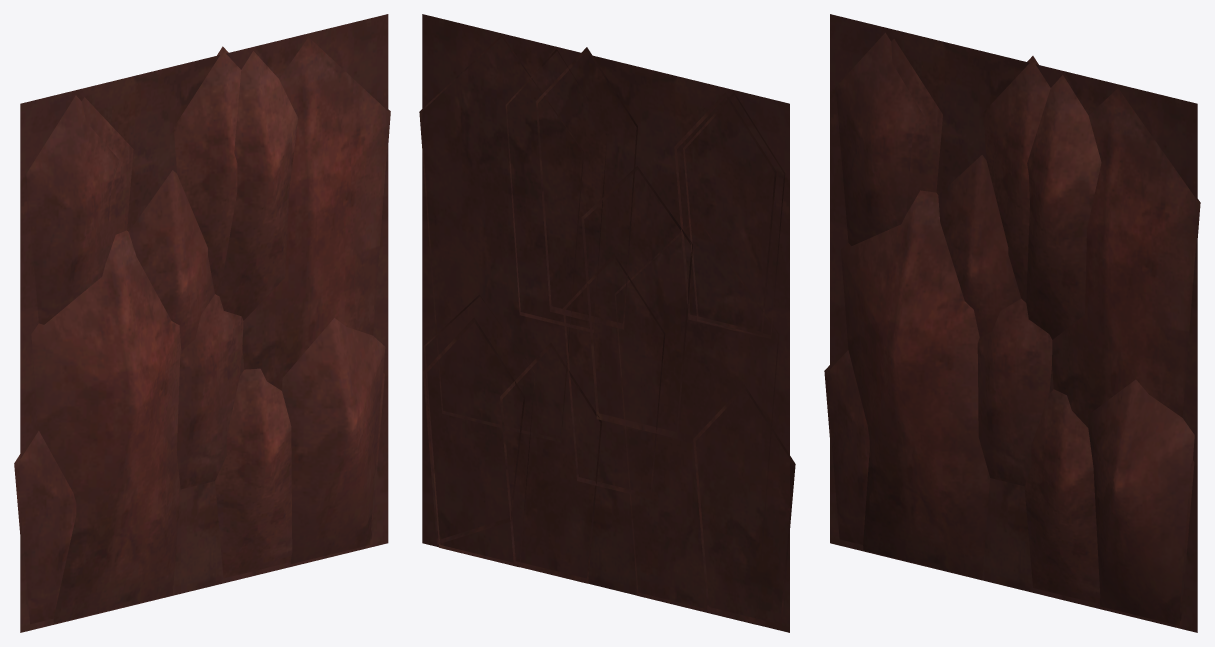
File: lava_wall_straight_01.fbx
3 views of the same model, side by side, from view 1: azimuth 30°, elevation 25°; view 2: azimuth 150°, elevation 25°; view 3: azimuth 330°, elevation 25° (orthographic).
Parts seen in each view (by area): view 1: lava_wall_straight_01-0; view 2: lava_wall_straight_01-0; view 3: lava_wall_straight_01-0.
Boxes of the visible parts, x1,y1,x2,y2 form: lava_wall_straight_01-0: [14, 14, 390, 632]; lava_wall_straight_01-0: [419, 14, 795, 632]; lava_wall_straight_01-0: [824, 14, 1200, 632].
Bounding box in the file's own units: 4.09 × 5.58 × 0.5154.
